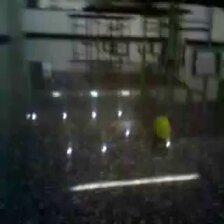tennis: (153, 115, 172, 139)
